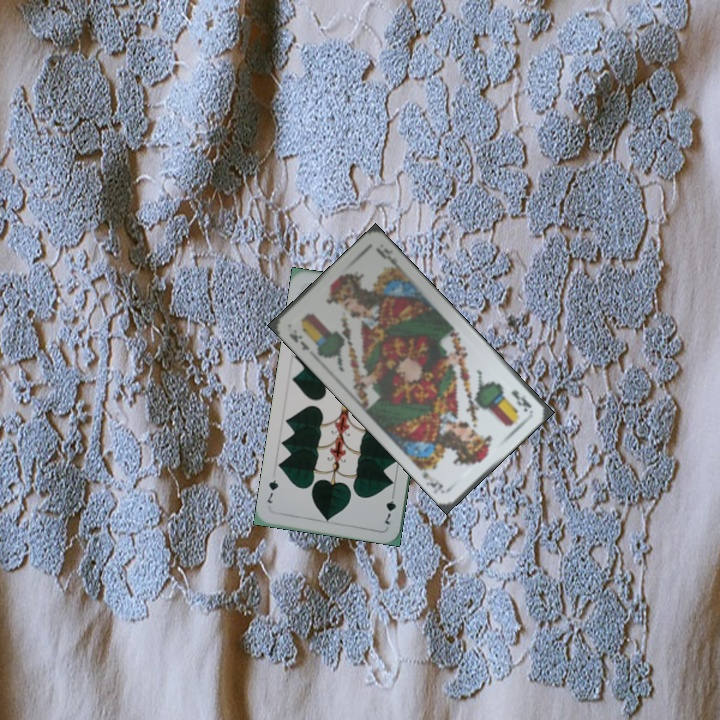EK: (507, 386, 534, 414), (285, 329, 312, 353)
G7: (380, 488, 399, 527)
